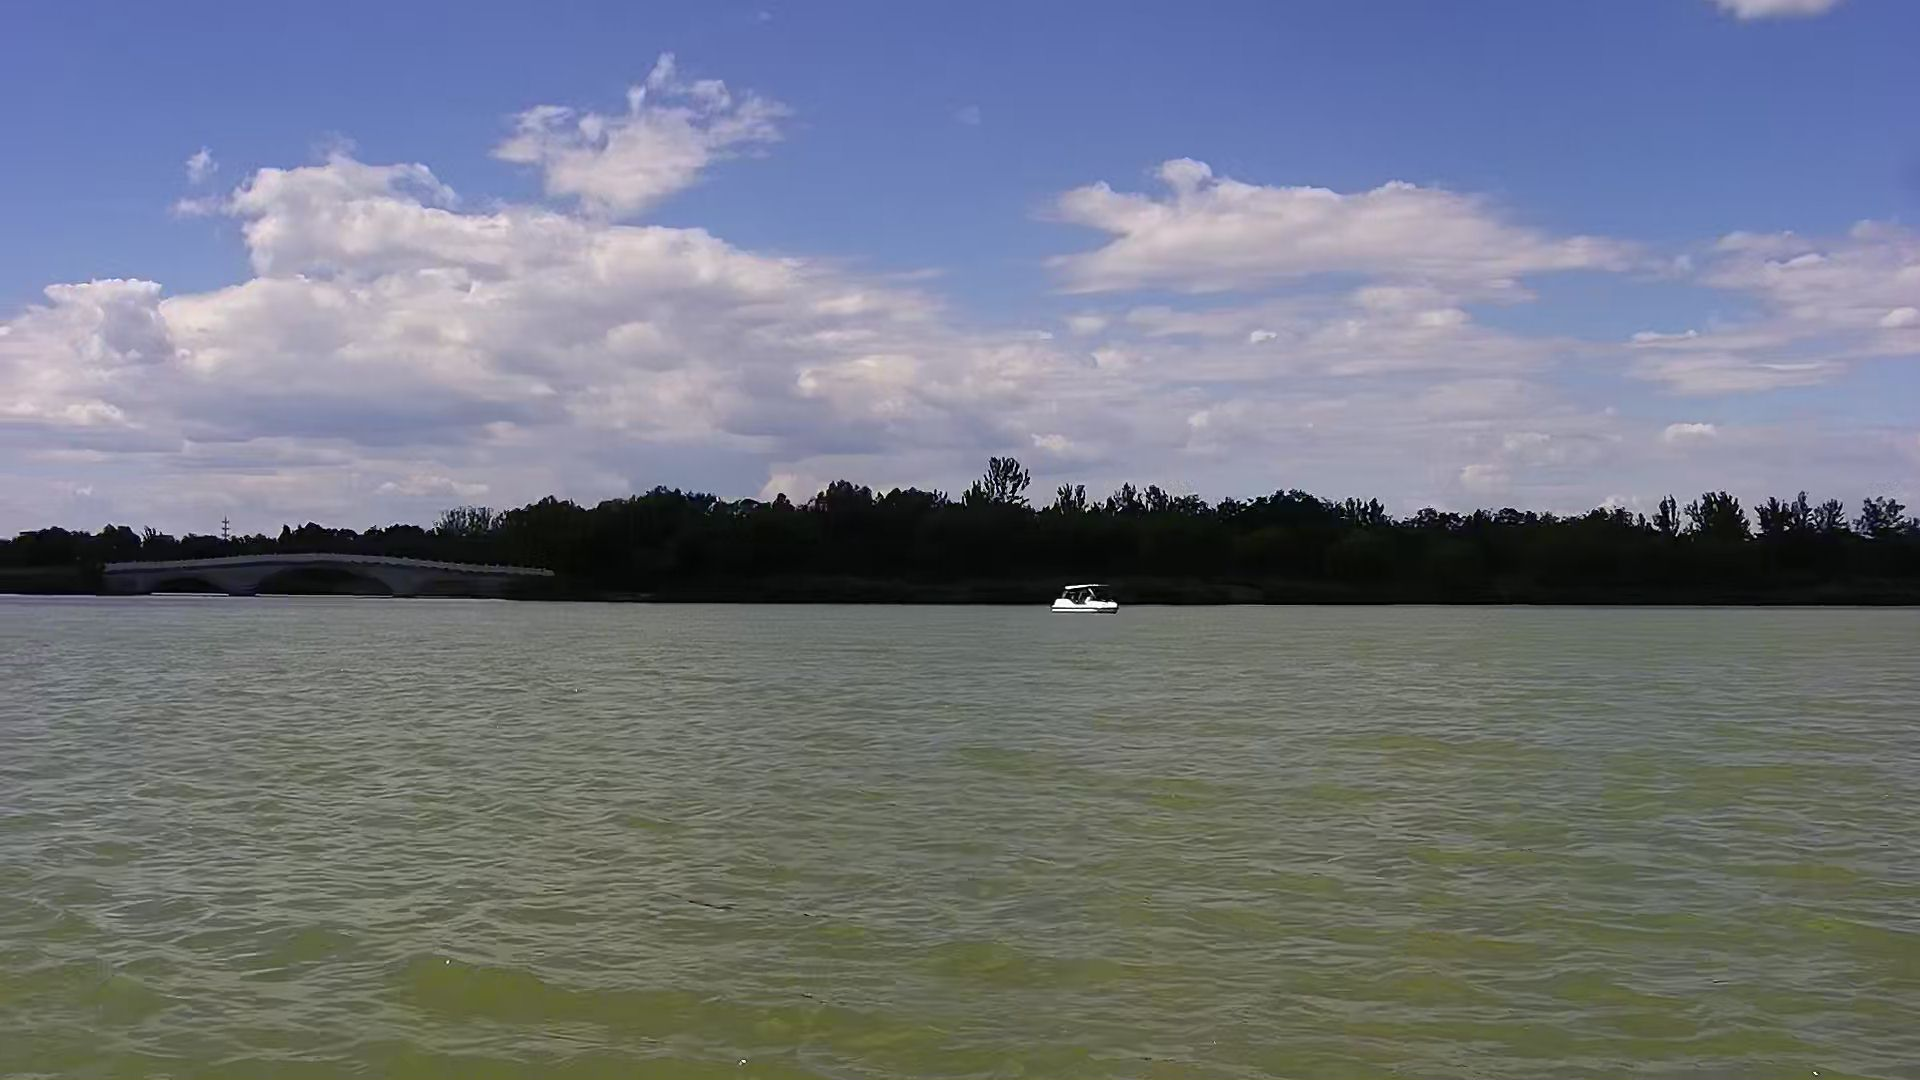boat: (1044, 583, 1125, 622)
bridge: (100, 554, 545, 601)
